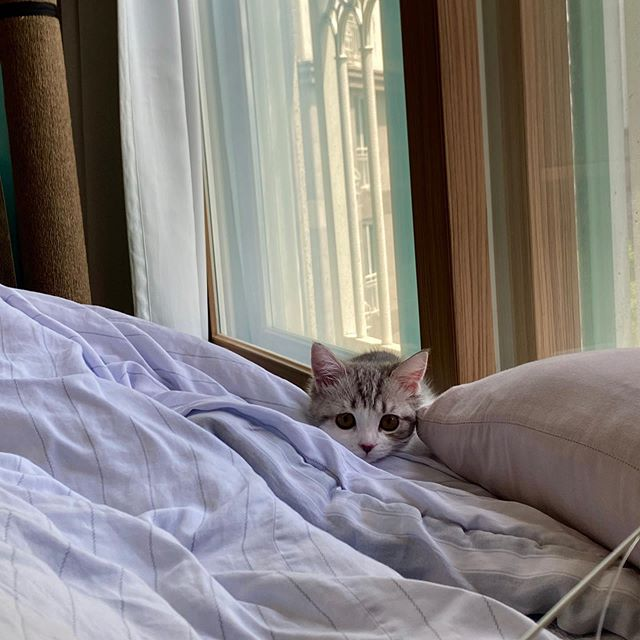cat: (305, 341, 436, 473)
